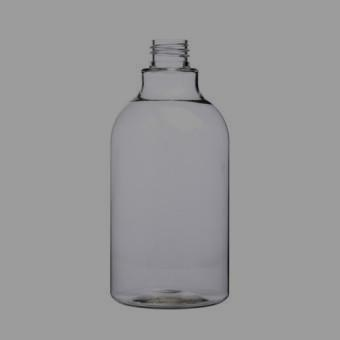bottle: (109, 36, 231, 304)
